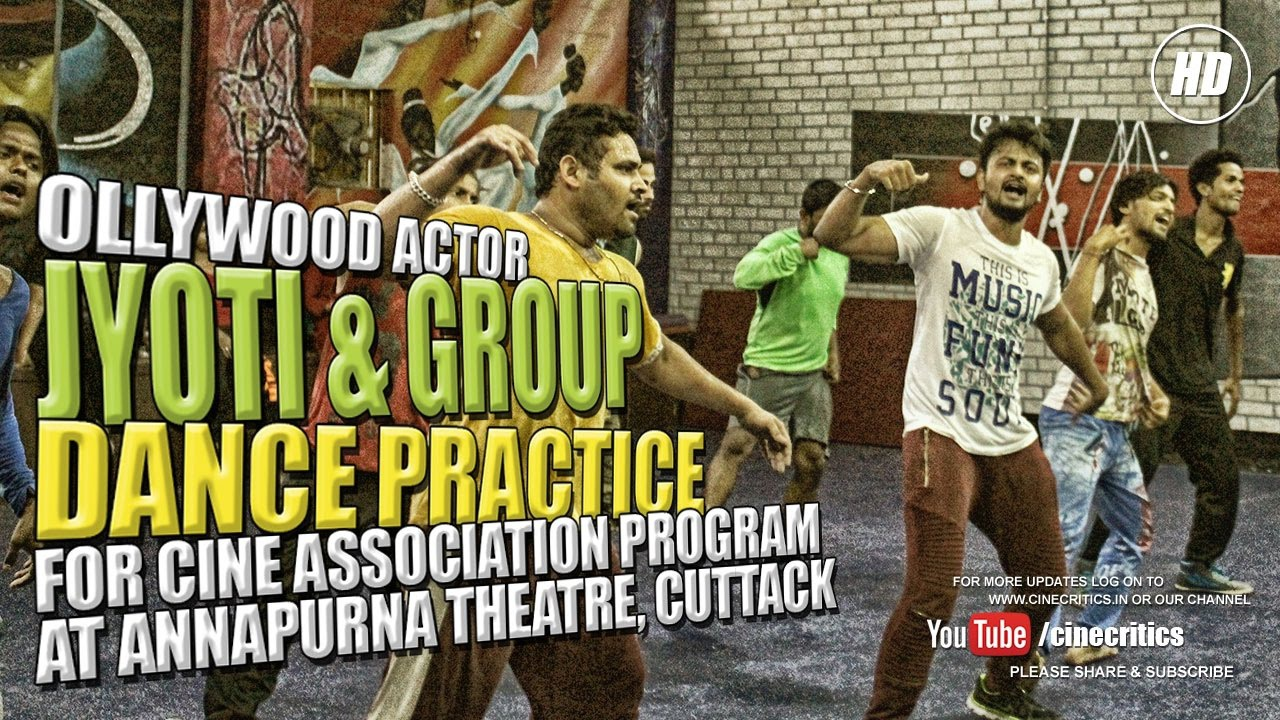bad: (593, 136, 683, 226), (985, 149, 1047, 211), (1216, 166, 1260, 209)
